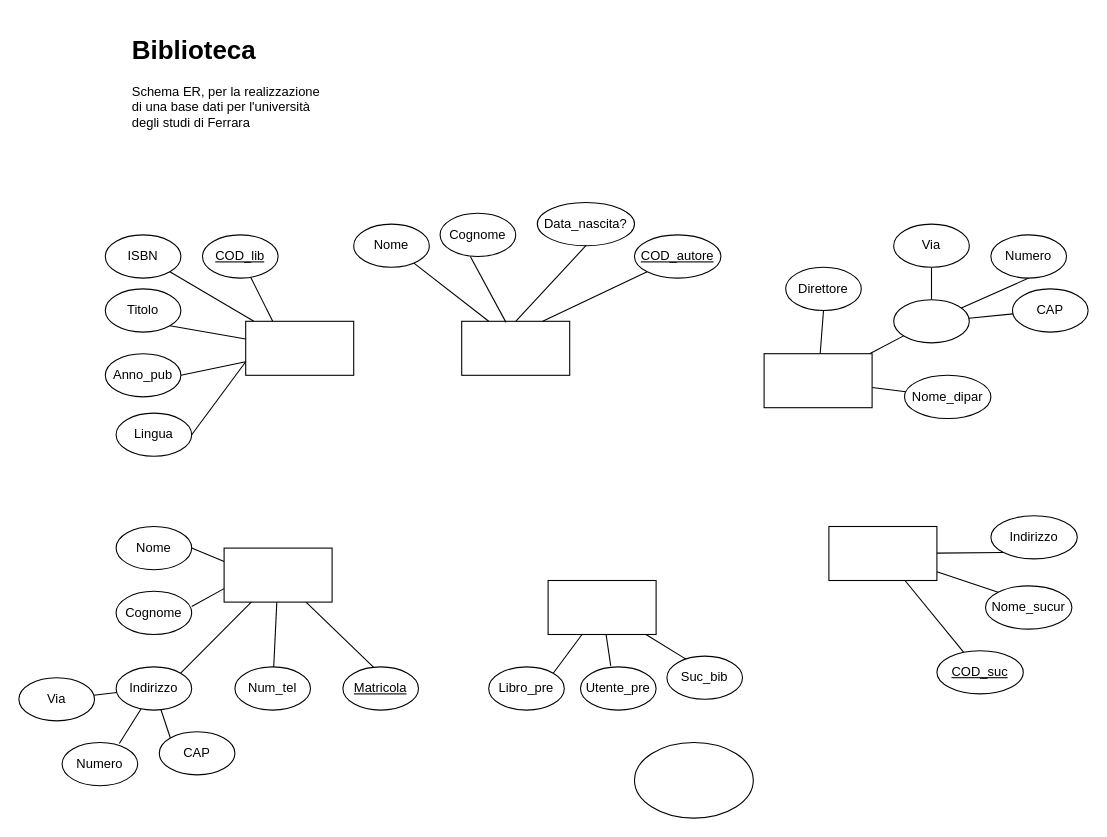
The diagram is 1107 pixels wide and 837 high, and some of its shapes have lost their labels. Each missing label, with the centre of its shape:
Autore: pixel 515 347
Data? In corso? In scadenza? Restituito?: pixel 693 779
Dipartimento: pixel 817 380
Libro: pixel 299 347
Prestito: pixel 601 606
Sede: pixel 931 321
Succursale: pixel 882 552
Utente: pixel 277 574
